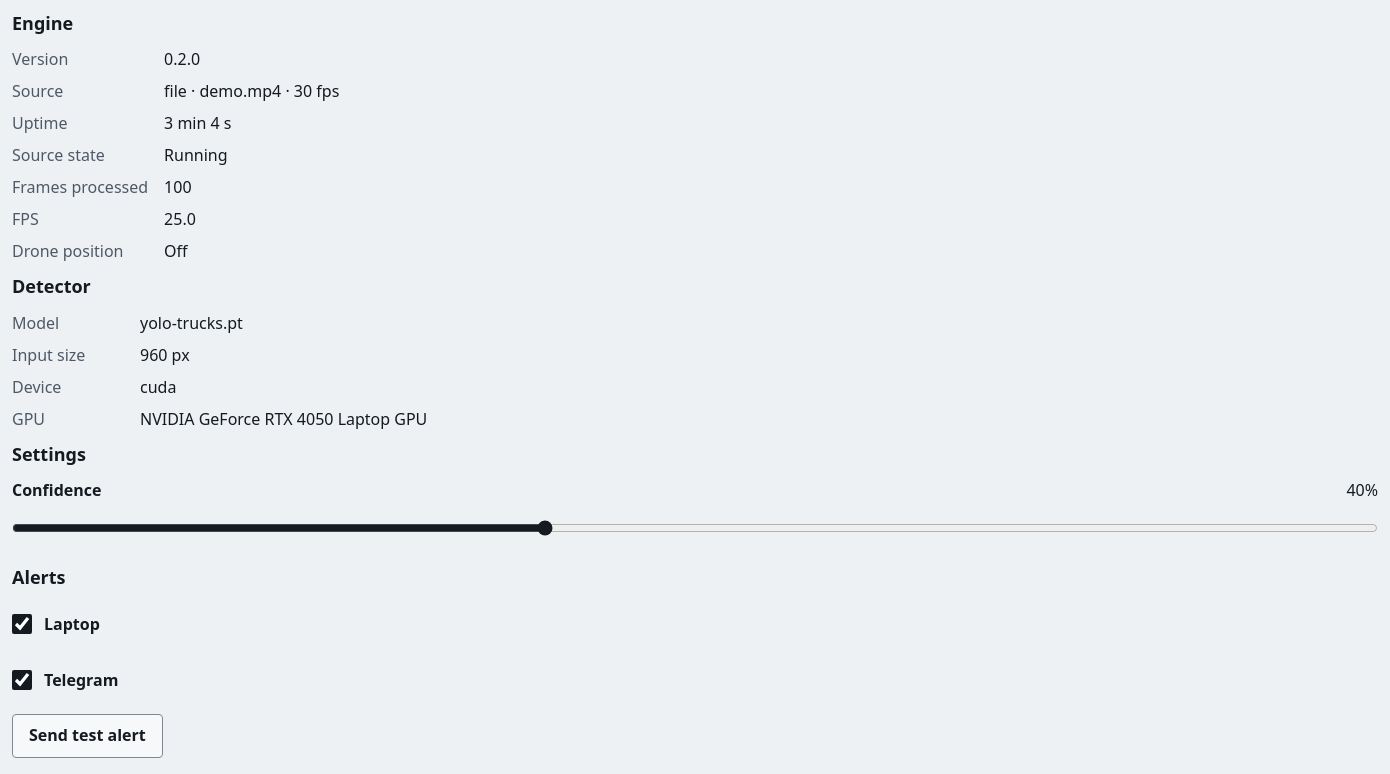
Test case: alert switch reverts on error
What coordinates should you click on to do the following:
click the switch labelled "Telegram"
I would click on:
 (22, 680)
Its box is 12,670 -> 32,690.
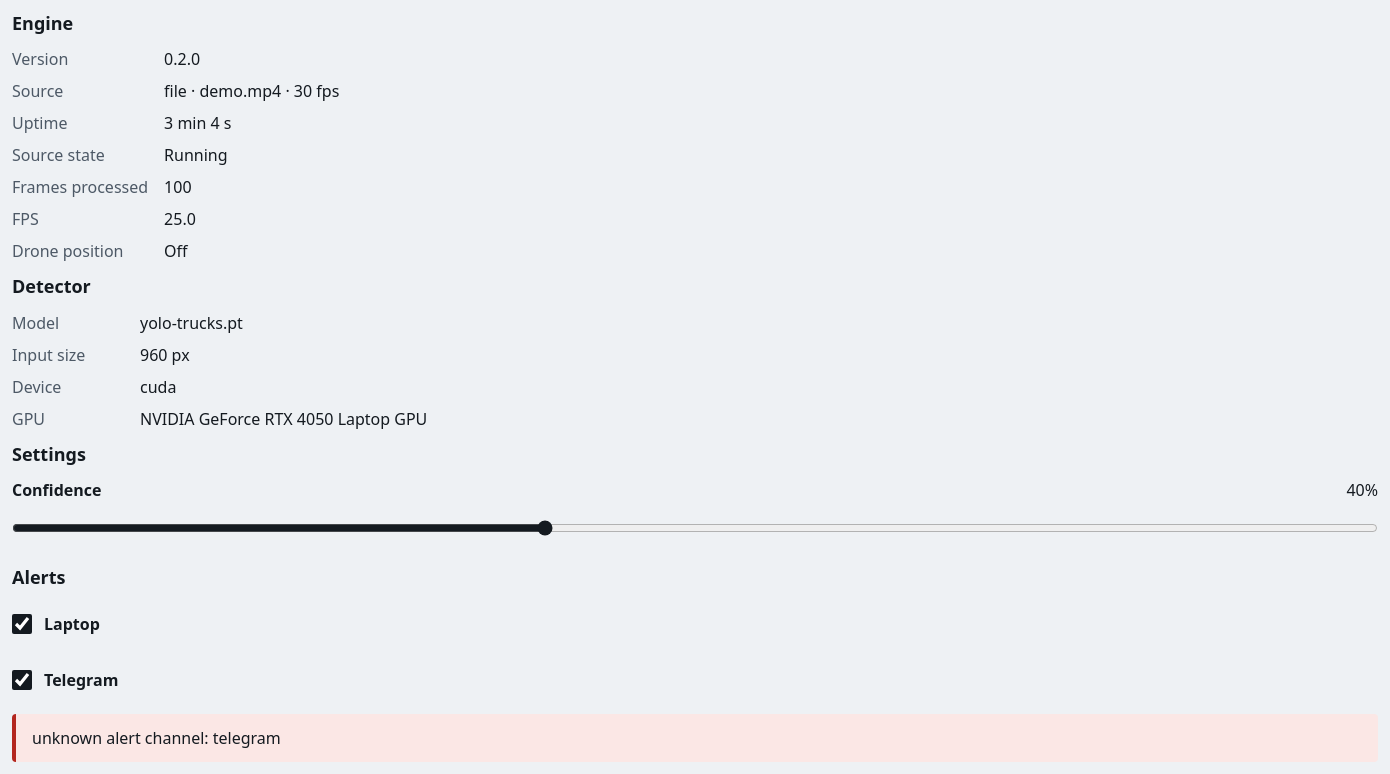
Expected: the message reads "unknown alert channel: telegram", 32,727 -> 281,749
